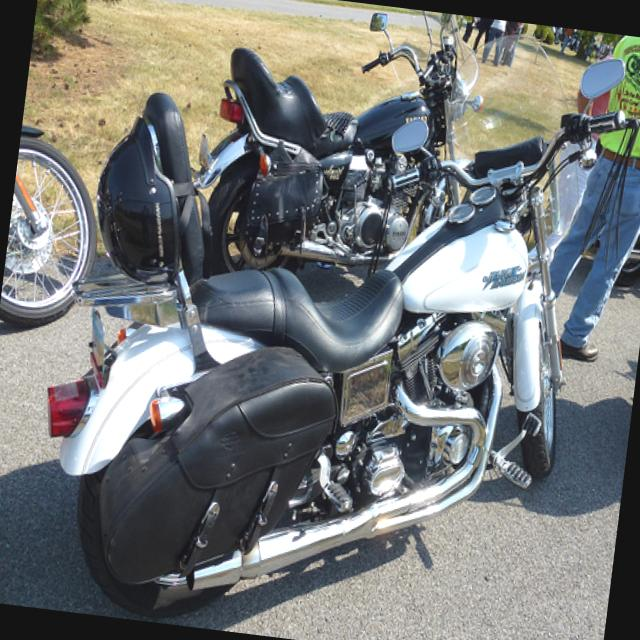Vehicle: (8, 0, 640, 640), (85, 0, 495, 325), (0, 117, 111, 339), (617, 145, 640, 279)
